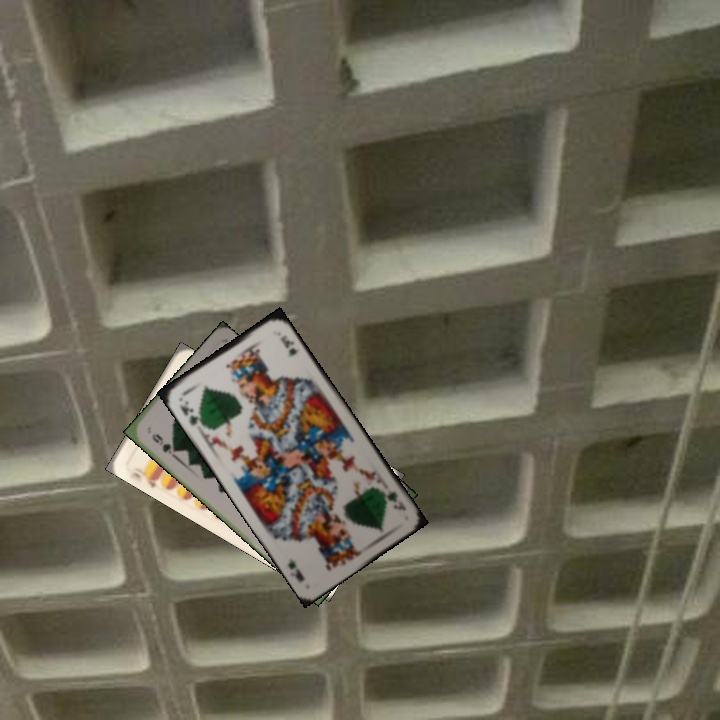E10: (122, 462, 162, 491)
G9: (148, 430, 179, 459)
GK: (176, 396, 206, 428), (377, 486, 409, 514)
